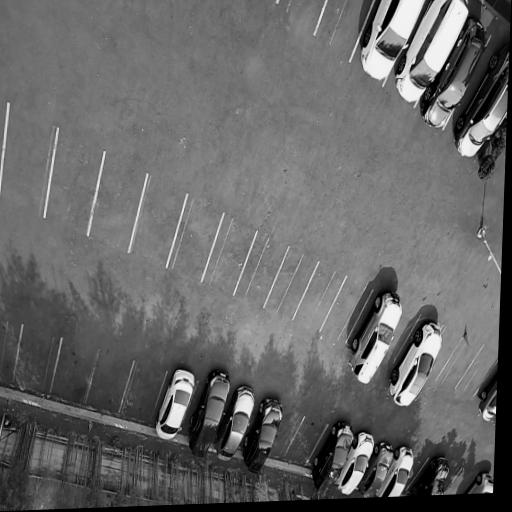Car: (413, 10, 494, 139), (387, 0, 474, 115), (447, 42, 510, 167), (349, 0, 429, 93), (341, 284, 409, 390), (383, 313, 451, 411), (181, 366, 235, 468), (237, 390, 288, 480), (210, 379, 260, 470), (150, 363, 199, 449), (308, 417, 358, 499), (334, 430, 380, 497), (355, 437, 397, 498), (373, 442, 418, 497), (410, 453, 457, 496), (474, 365, 498, 427), (463, 472, 494, 494)
Space Available: (43, 129, 105, 239), (0, 104, 58, 217), (88, 153, 147, 253), (128, 176, 188, 270), (167, 195, 224, 283), (202, 214, 257, 296), (233, 233, 289, 308), (264, 248, 319, 323), (314, 0, 376, 61), (293, 263, 347, 333), (320, 277, 373, 345), (49, 338, 99, 406), (13, 326, 62, 395), (119, 361, 168, 425), (84, 352, 134, 413), (436, 339, 484, 390), (455, 345, 498, 397), (284, 417, 328, 464), (385, 308, 422, 363), (276, 0, 327, 37), (427, 334, 463, 383), (269, 411, 305, 459), (0, 319, 23, 383), (402, 457, 429, 493), (443, 470, 478, 495)
